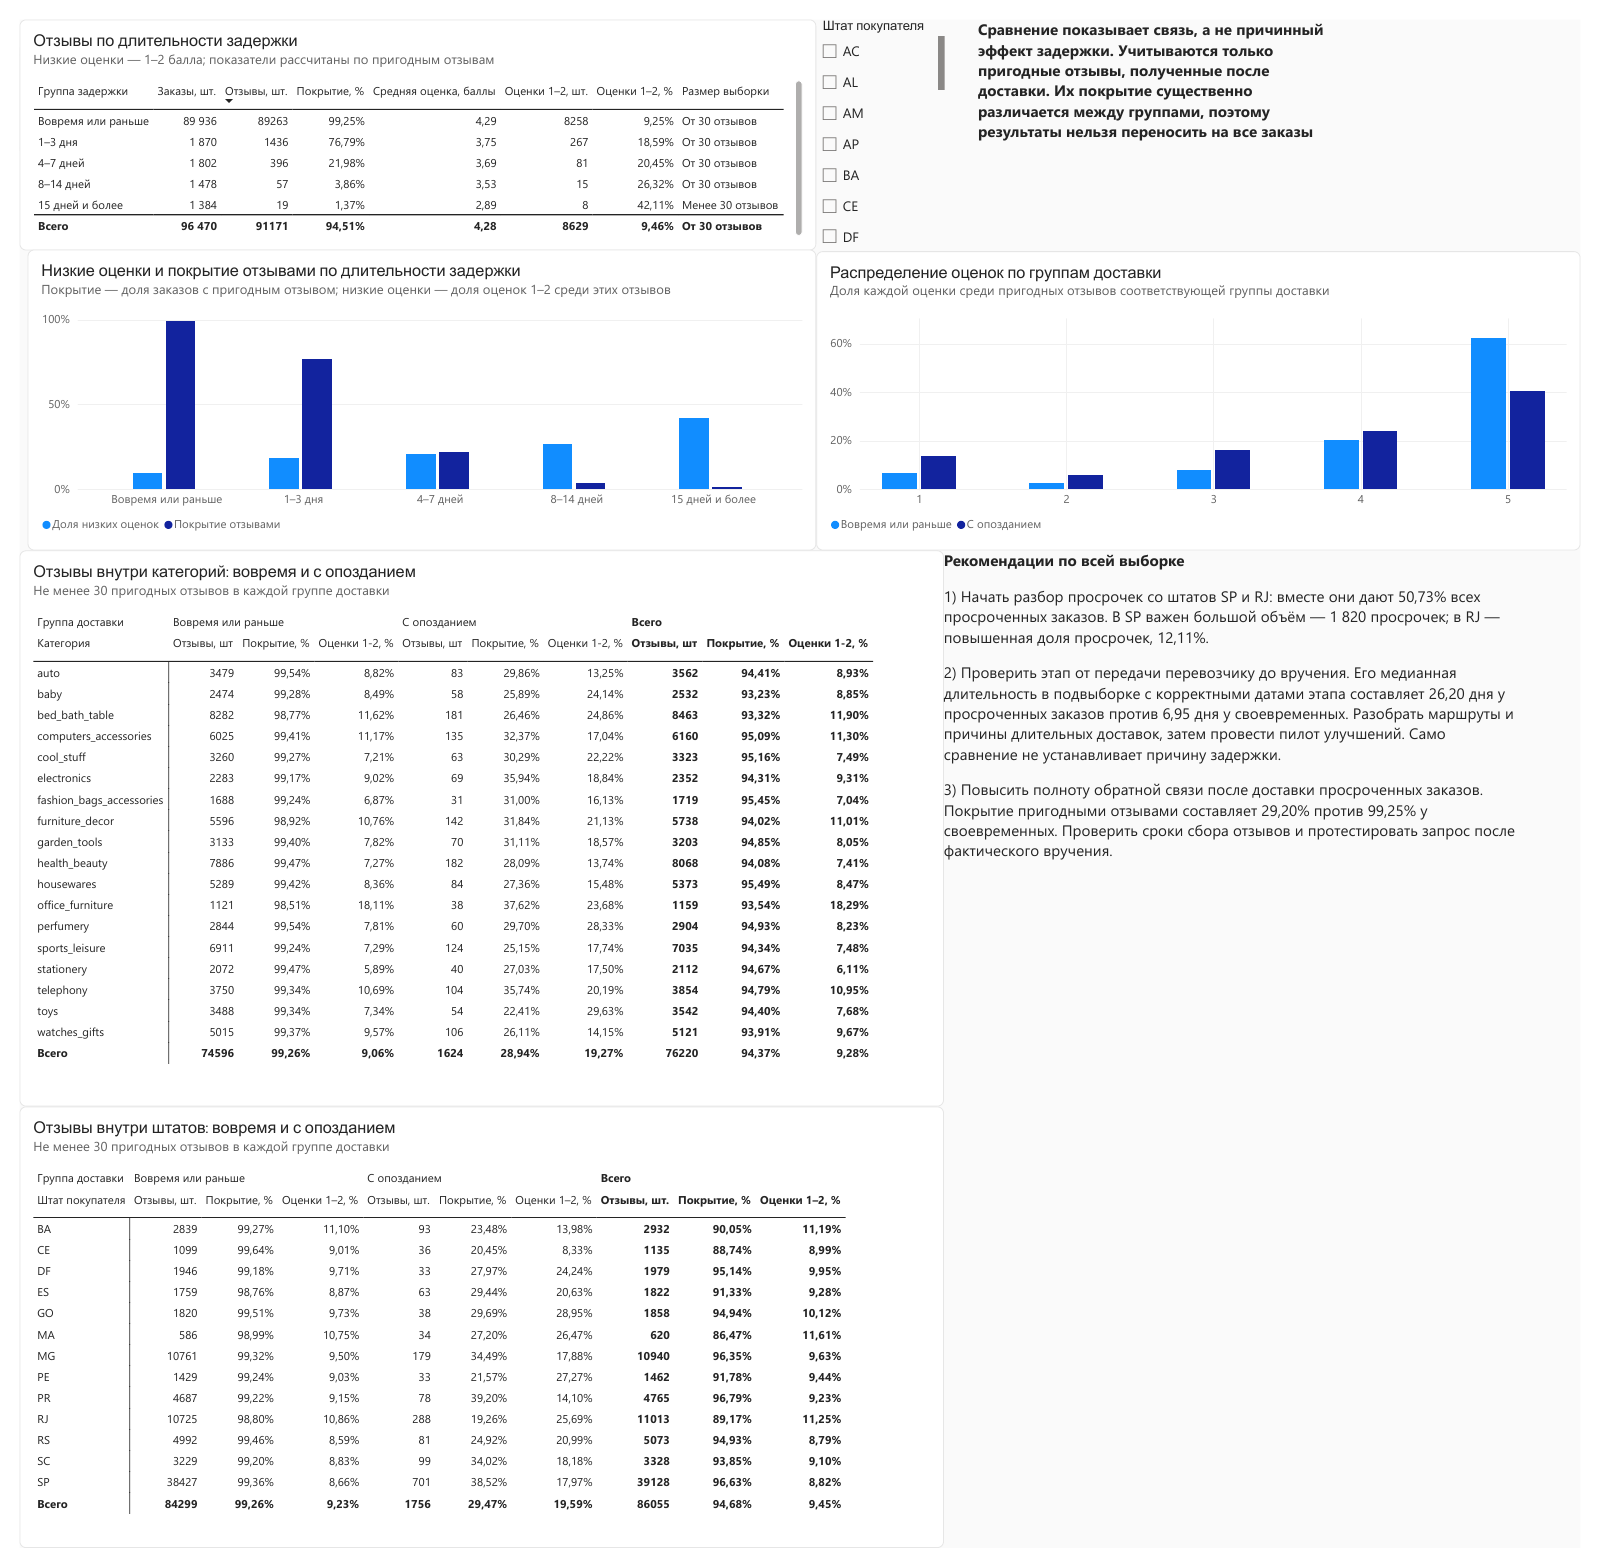

Layout of this report page (visuals, bound fields, positions):
{"tool":"powerbi","page":{"name":"Задержки и отзывы","canvas":[1920,1880],"ordinal":2},"visuals":[{"type":"tableEx","title":"Отзывы по длительности задержки","fields":{"Values":["mart order_delivery.delay_group","mart order_delivery.Пригодные заказы","mart order_delivery.Пригодные отзывы","mart order_delivery.Покрытие отзывами","mart order_delivery.Средняя оценка","mart order_delivery.Низкие оценки","mart order_delivery.Доля низких оценок","mart order_delivery.Объём отзывов"]},"box":[0,0,980,284],"z":0},{"type":"clusteredColumnChart","title":"Низкие оценки и покрытие отзывами по длительности задержки","fields":{"Category":["mart order_delivery.delay_group"],"Y":["mart order_delivery.Доля низких оценок","mart order_delivery.Покрытие отзывами"]},"box":[10,282.5,970,370],"z":1},{"type":"pivotTable","title":"Отзывы внутри категорий: вовремя и с опозданием","fields":{"Columns":["mart order_delivery.Группа доставки"],"Rows":["mart order_category.category_name"],"Values":["mart order_delivery.Пригодные отзывы категории","mart order_delivery.Покрытие отзывами категории","mart order_delivery.Доля низких оценок категории"]},"box":[0,653.3,1136.7,683.3],"z":2},{"type":"clusteredColumnChart","title":"Распределение оценок по группам доставки","fields":{"Category":["mart order_delivery.review_score"],"Series":["mart order_delivery.Группа доставки"],"Y":["mart order_delivery.Доля оценки в группе"]},"box":[980,285,940,367.5],"z":3},{"type":"slicer","fields":{"Values":["mart order_delivery.customer_state"]},"box":[980,0,158,284],"z":4},{"type":"textbox","box":[1136.7,0,490,283.3],"z":5},{"type":"pivotTable","title":"Отзывы внутри штатов: вовремя и с опозданием","fields":{"Columns":["mart order_delivery.Группа доставки"],"Rows":["mart order_delivery.customer_state"],"Values":["mart order_delivery.Пригодные отзывы","mart order_delivery.Покрытие отзывами","mart order_delivery.Доля низких оценок"]},"box":[0,1336.7,1136.7,543.3],"z":6},{"type":"textbox","box":[1136.7,653.3,706.7,683.3],"z":7}]}

Visuals, with their boxes in screenshot pixels (x1, y1, x2, y2), scaled from the page's 1920x1880 canvas onto the 1600x1568 screenshot:
"Отзывы по длительности задержки" tableEx: box=[0, 0, 817, 237]
"Низкие оценки и покрытие отзывами по длительности задержки" clusteredColumnChart: box=[8, 236, 817, 544]
"Отзывы внутри категорий: вовремя и с опозданием" pivotTable: box=[0, 545, 947, 1115]
"Распределение оценок по группам доставки" clusteredColumnChart: box=[817, 238, 1599, 544]
slicer - mart order_delivery.customer_state: box=[817, 0, 948, 237]
textbox: box=[947, 0, 1356, 236]
"Отзывы внутри штатов: вовремя и с опозданием" pivotTable: box=[0, 1115, 947, 1567]
textbox: box=[947, 545, 1536, 1115]
